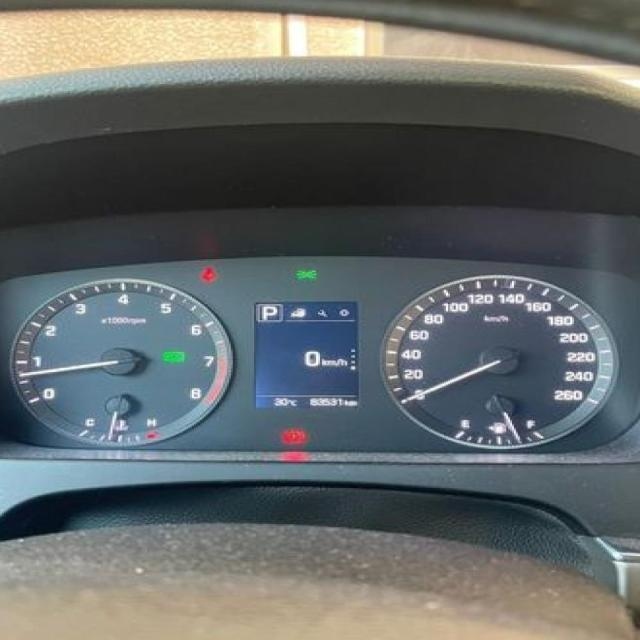Seat Belt: (200, 264, 214, 284)
